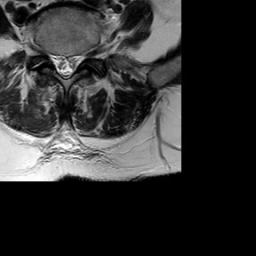CCS_normal: (60, 45, 69, 87)
LFS_normal: (79, 41, 87, 70)
LLS_normal: (69, 44, 79, 80)
RFS_stenosis: (41, 40, 50, 63)
RLS_normal: (50, 44, 60, 80)
